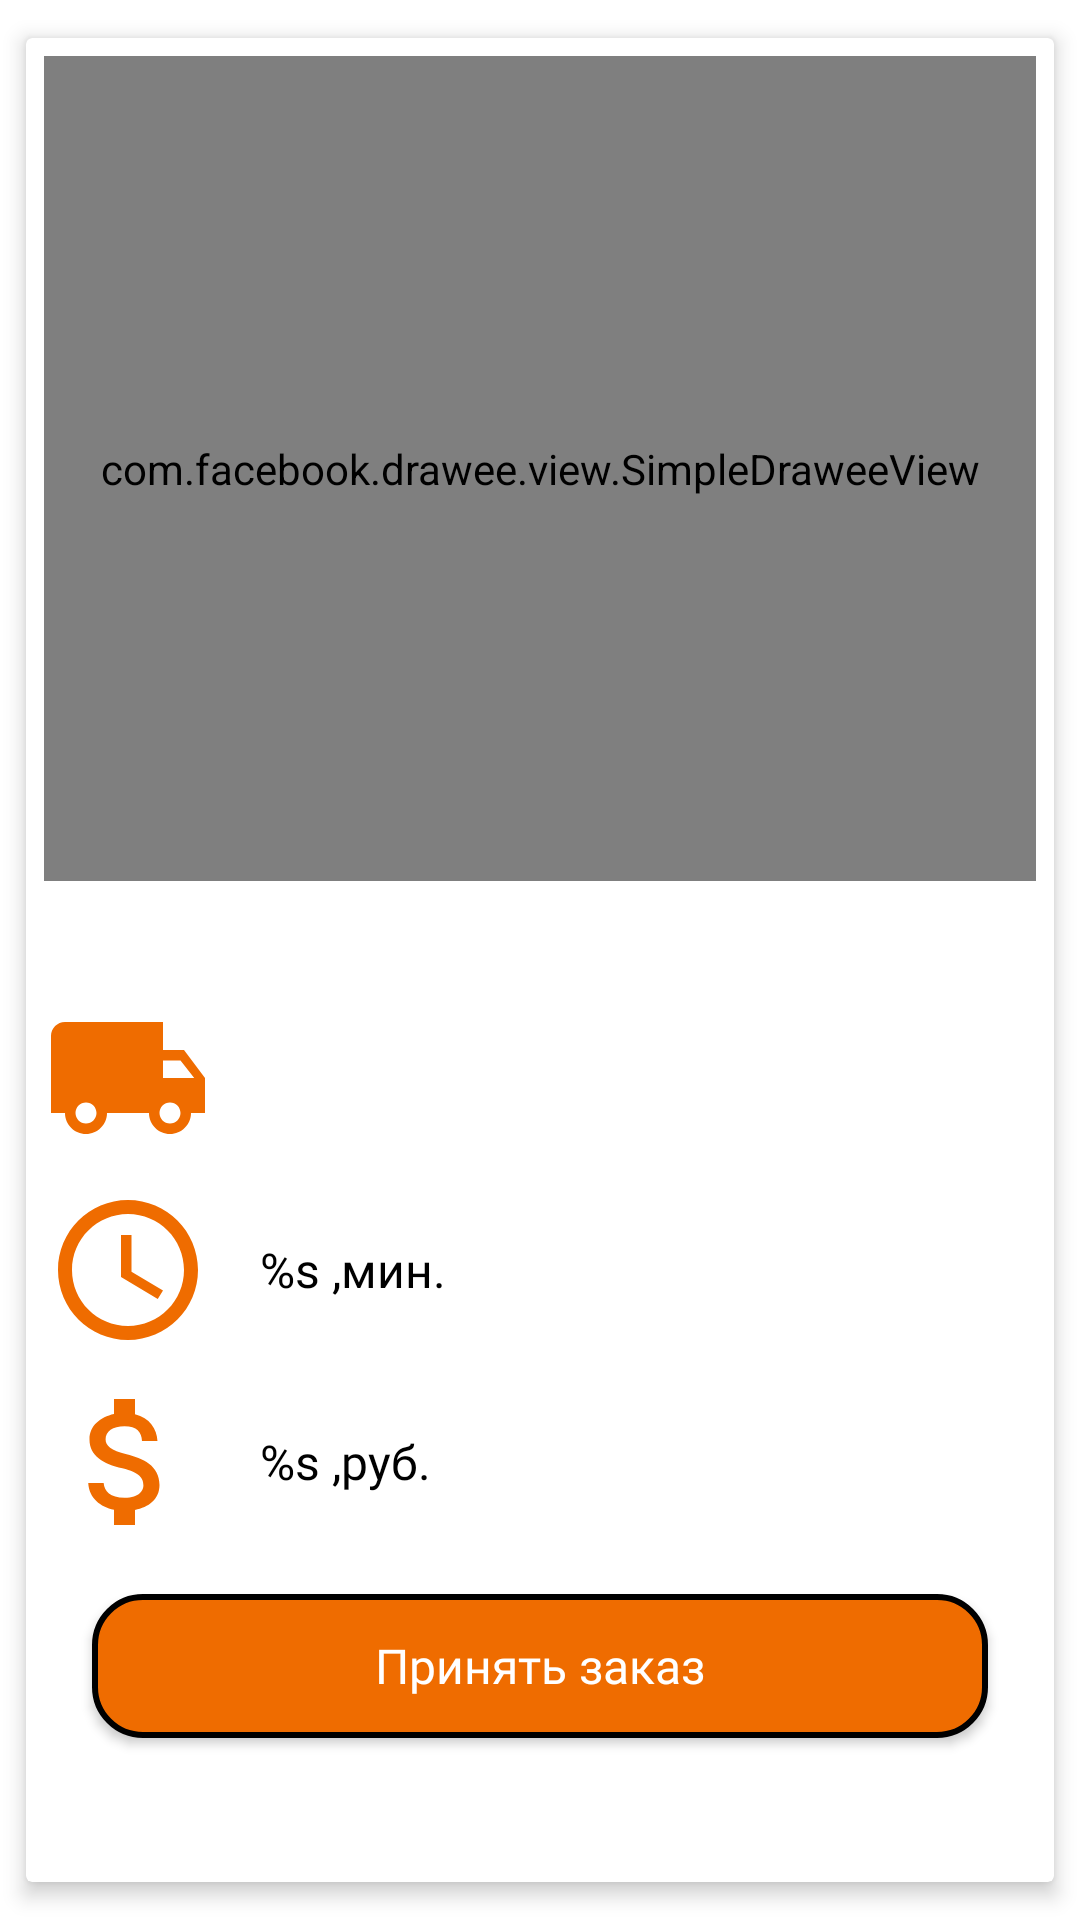

Where to tap for icons on this 1080 × 1920 app screen, as [x,y]:
access time: [128,1270]
attach money: [124,1462]
local shipping: [128,1078]
